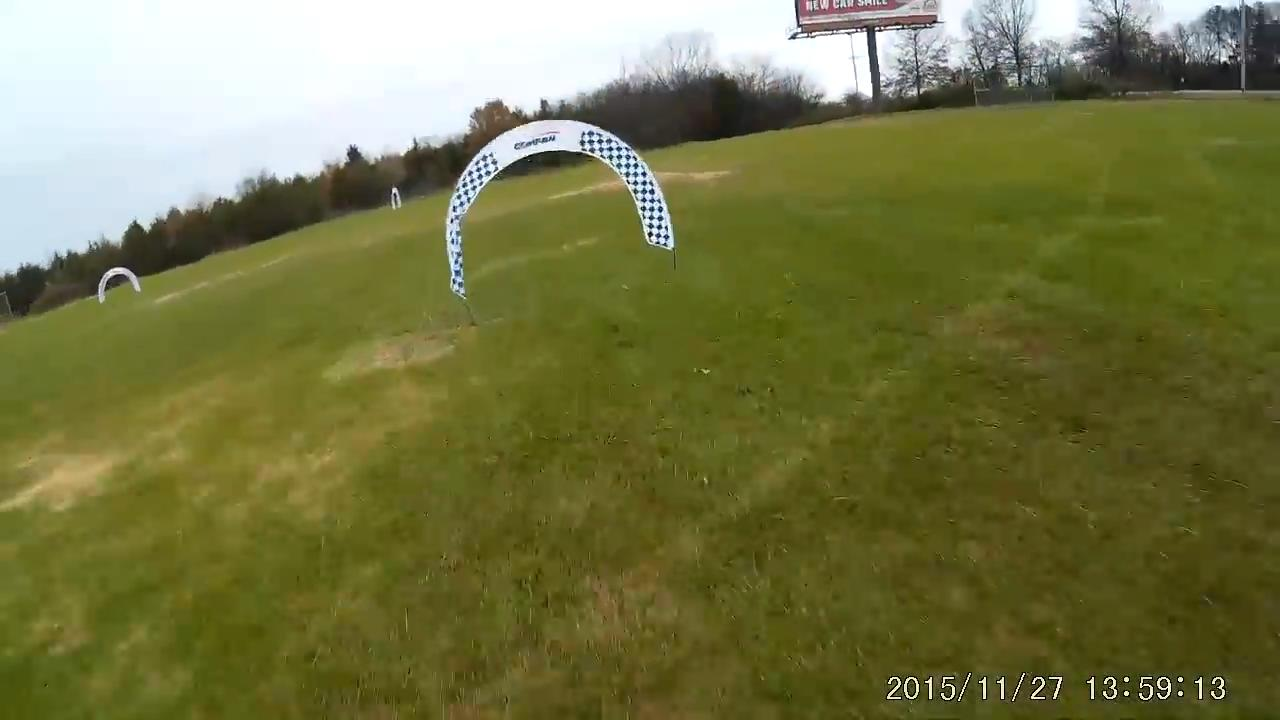gate: (440, 116, 678, 299)
